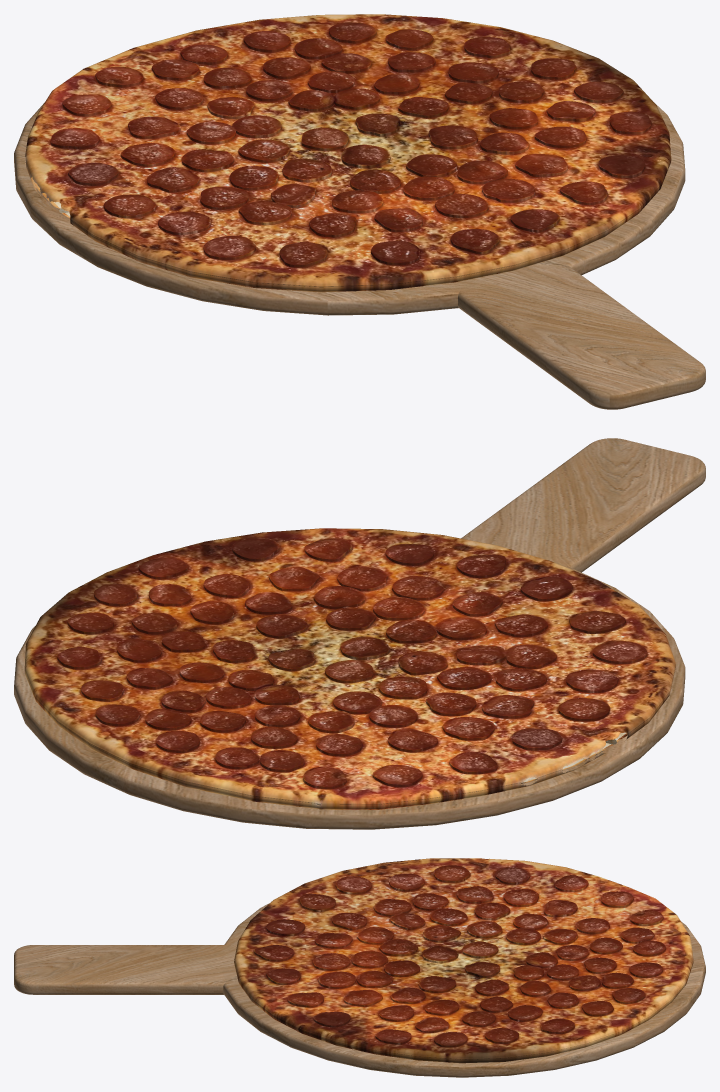
File: Pizza.fbx
The picture shows the model from 3 angles, top to bottom: view 1: azimuth 30°, elevation 25°; view 2: azimuth 150°, elevation 25°; view 3: azimuth 270°, elevation 25°; orthographic projection. The views are drawn at different scales.
Visible parts, largest first — view 1: Pizza, Plate, PizzaPiece5, PizzaPiece6; view 2: Pizza, Plate, PizzaPiece8, PizzaPiece7; view 3: Pizza, Plate.
Part boxes in pixels (bbox=[...]): Pizza: bbox=[25, 14, 671, 292]; Plate: bbox=[14, 102, 705, 409]; PizzaPiece5: bbox=[253, 263, 514, 287]; PizzaPiece6: bbox=[59, 208, 254, 282]; Pizza: bbox=[24, 528, 675, 809]; Plate: bbox=[14, 438, 705, 829]; PizzaPiece8: bbox=[185, 779, 430, 805]; PizzaPiece7: bbox=[430, 738, 616, 798]; Pizza: bbox=[234, 858, 693, 1063]; Plate: bbox=[14, 903, 705, 1077].
Size of the model in its own units: 355 by 18.12 by 504.
5 materials, 5 textured.
